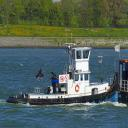tugboat: (5, 43, 121, 110)
